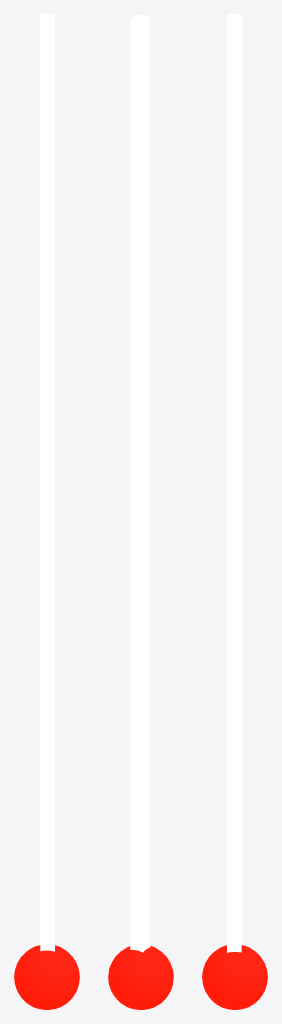
The model's file is NewWebMenuModuliListner.gltf.
3 views of the same model, side by side, from view 1: azimuth 90°, elevation 25°; view 2: azimuth 150°, elevation 25°; view 3: azimuth 270°, elevation 25° (orthographic).
Parts seen in each view (by area): view 1: ListnerModuli; view 2: ListnerModuli; view 3: ListnerModuli.
Part boxes in pixels (x1,y1,x2,y2): ListnerModuli: [14, 14, 79, 1009]; ListnerModuli: [108, 14, 173, 1009]; ListnerModuli: [202, 14, 267, 1009].
Size of the model in its own units: 0.0421 by 0.6987 by 0.0421.
